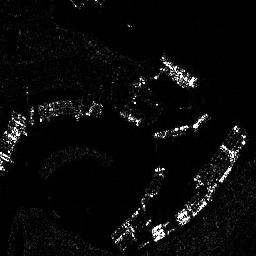ship: (161, 56, 198, 88)
